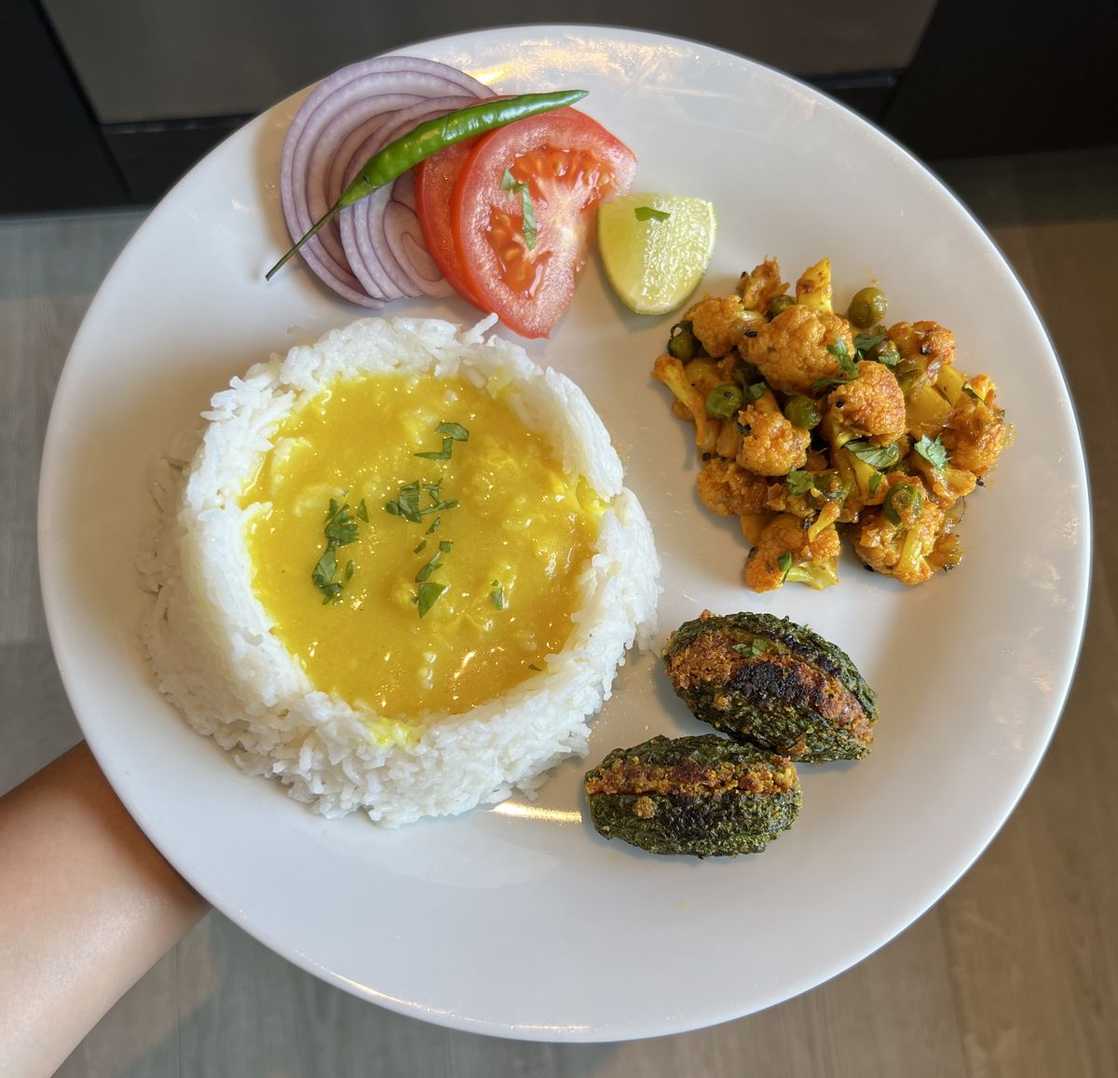bhat: (139, 318, 644, 827)
dal: (271, 370, 579, 730)
sabji: (672, 280, 969, 575), (591, 611, 875, 869)
